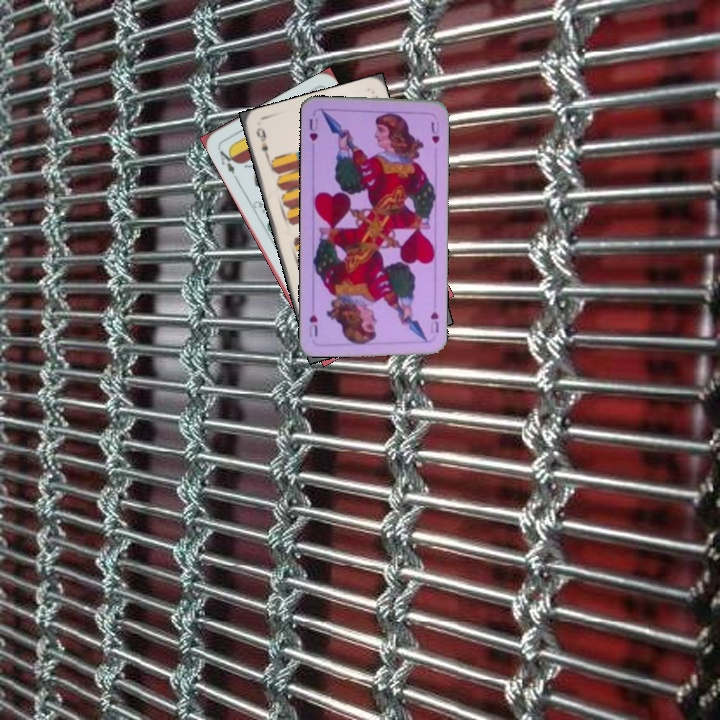E9: (252, 123, 272, 163)
EA: (214, 144, 239, 181)
HU: (305, 114, 320, 144), (427, 307, 441, 335)
